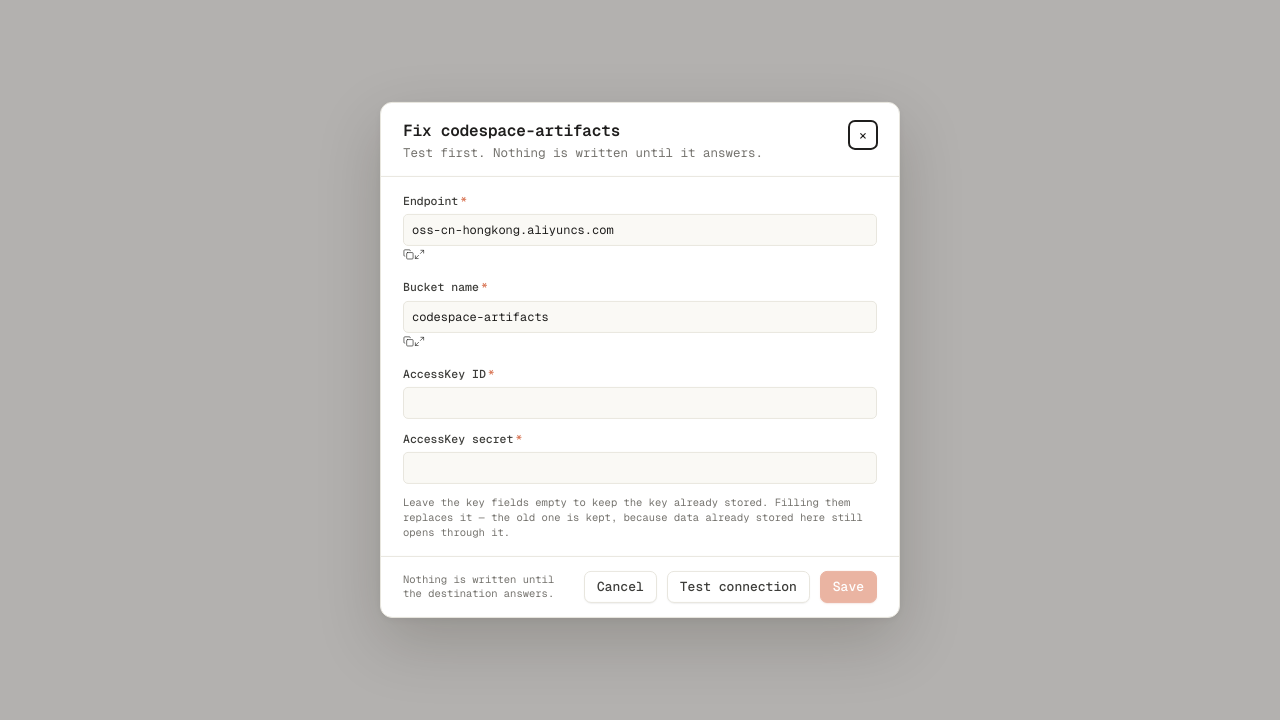
Scenario: FixConnectionDialog › writes nothing until the test passes
The image size is (1280, 720).
Expected: the password field named "AccessKey secret" is shown, [403,452,877,484]
Type "LTAI5tNew" into the password field named "AccessKey ID" at (640, 403), box [403,387,877,419]
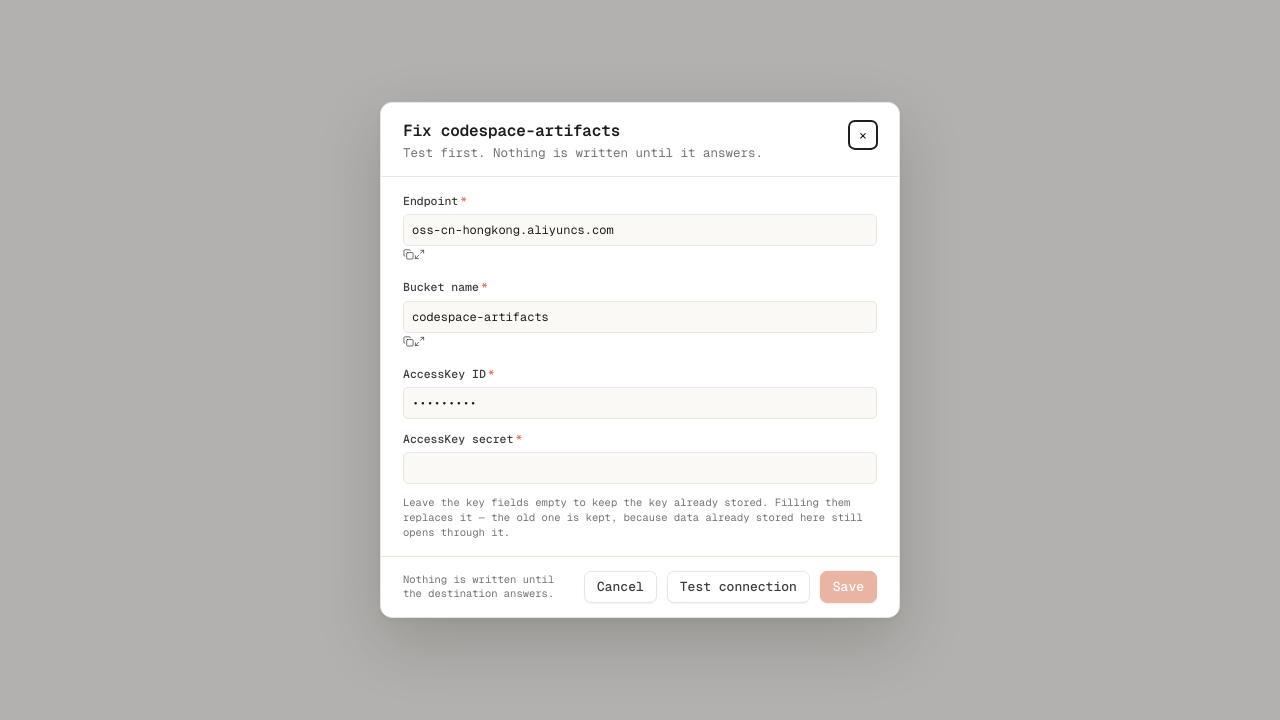
Type "new-secret" into the password field named "AccessKey secret" at (640, 468), box [403,452,877,484]
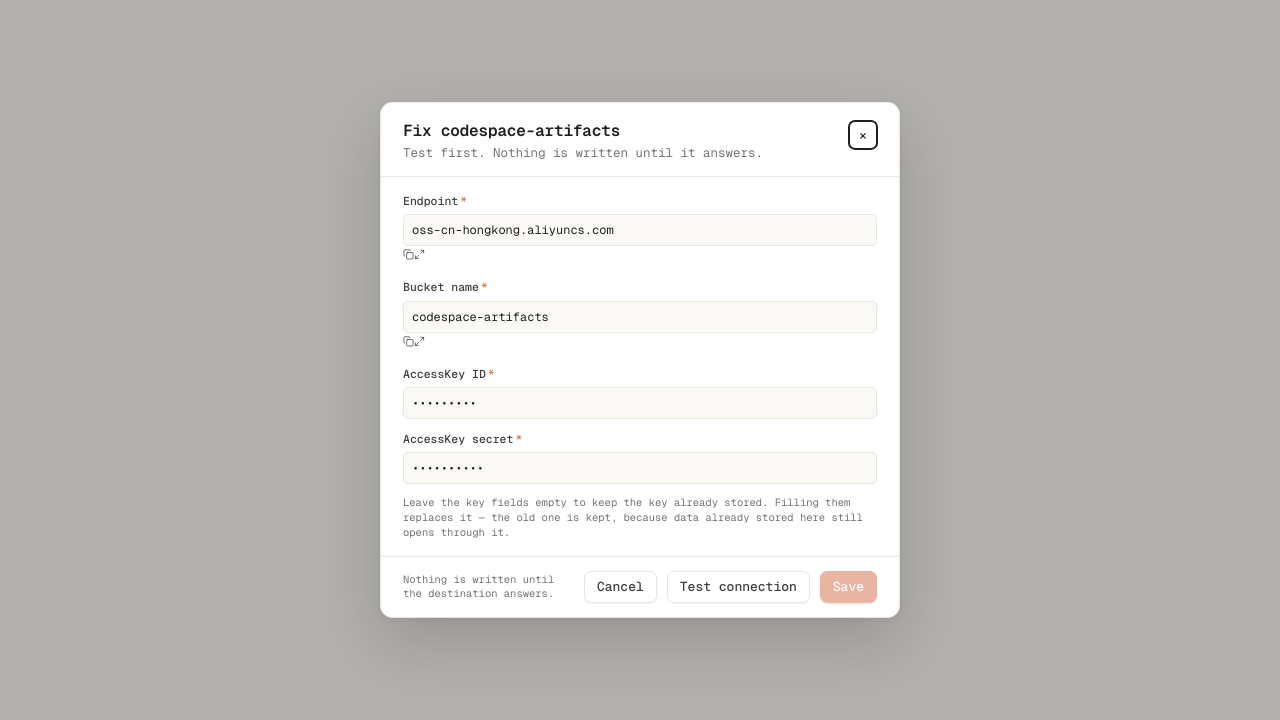
Click the button "Test connection" at (738, 587), box [667,571,810,603]
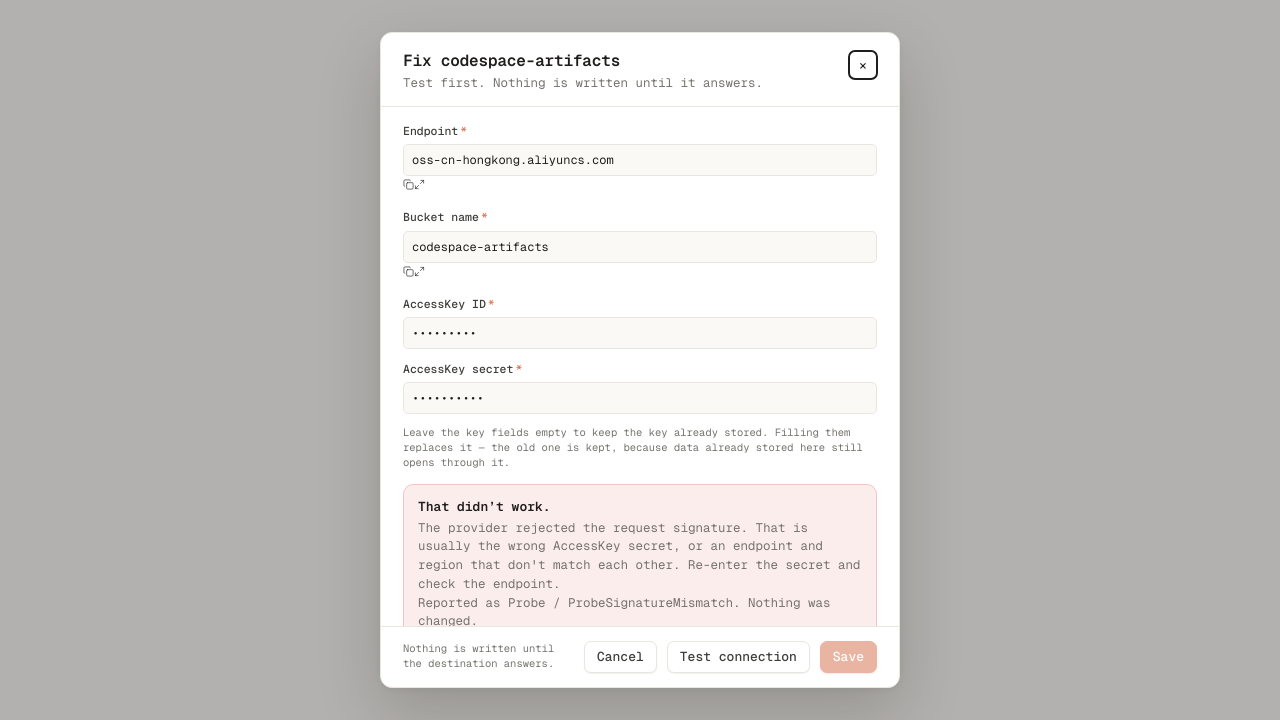
Expected: the button "Save" is disabled, [820,641,877,673]
Expected: the text "rejected the request signature" is shown, [418,519,860,592]
Expected: the text "Nothing was changed" is shown, [418,594,830,626]
